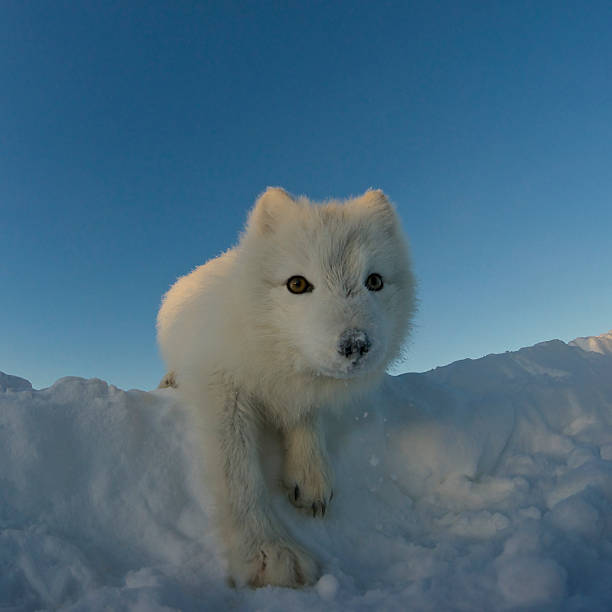arcticfox: (261, 218, 401, 394)
